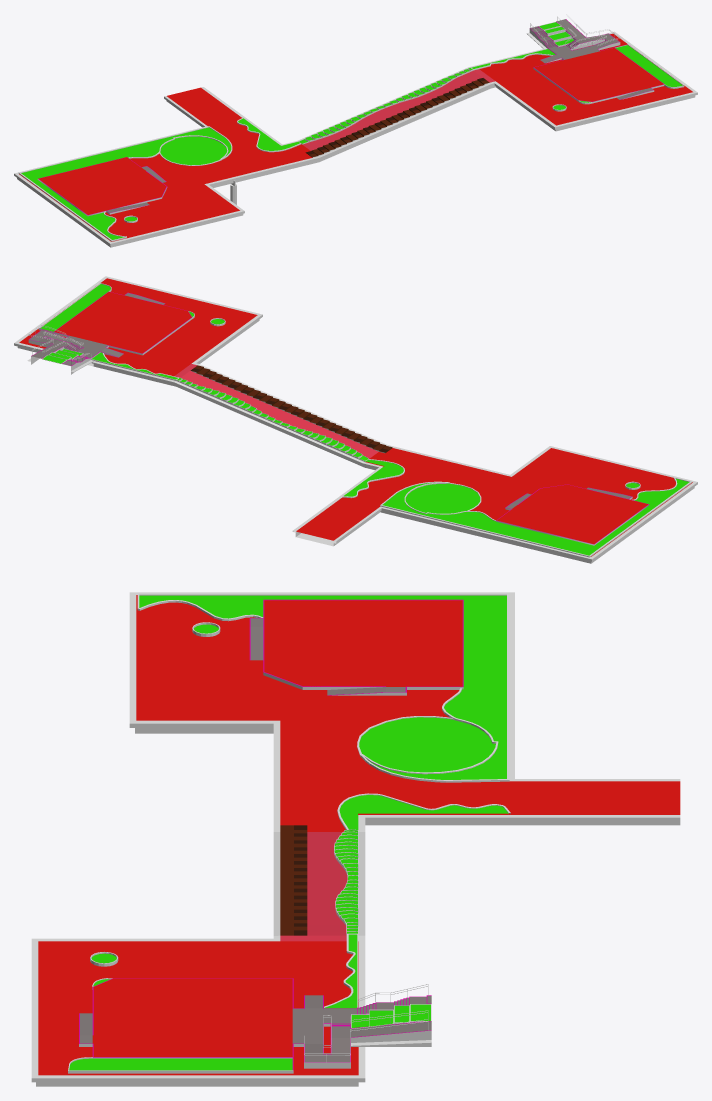
File: Plataforma_Completa Bake Ok.fbx
The picture shows the model from 3 angles, top to bottom: view 1: azimuth 30°, elevation 25°; view 2: azimuth 150°, elevation 25°; view 3: azimuth 270°, elevation 25°; orthographic projection. The views are drawn at different scales.
Parts seen in each view (by area): view 1: Piso_vermelho.001, Jardim, Piso_vermelho, Piso_vermelho.002, Piso_vermelho.003, Concreto.001, Concreto.003, Rampa, Concreto, Piso_cinza, Parque, Escada_rampa (+6 smaller); view 2: Piso_vermelho.001, Jardim, Piso_vermelho, Piso_vermelho.002, Piso_vermelho.003, Concreto.001, Concreto.003, Rampa, Concreto, Parque, Escada_rampa, Piso_cinza (+6 smaller); view 3: Piso_vermelho.001, Jardim, Piso_vermelho, Piso_vermelho.002, Piso_vermelho.003, Concreto.001, Concreto.003, Parque, Piso_cinza, Rampa, Escada_rampa, Canteiros_Inferior.001 (+8 smaller).
Boxes of the visible parts, left/top/right/bottom form: Piso_vermelho.001: left=19, top=87, right=312, bottom=241; Jardim: left=21, top=22, right=682, bottom=239; Piso_vermelho: left=479, top=33, right=692, bottom=125; Piso_vermelho.002: left=38, top=157, right=166, bottom=214; Piso_vermelho.003: left=534, top=48, right=663, bottom=101; Concreto.001: left=14, top=87, right=300, bottom=247; Concreto.003: left=469, top=31, right=697, bottom=131; Rampa: left=303, top=69, right=495, bottom=150; Concreto: left=282, top=67, right=491, bottom=166; Piso_cinza: left=107, top=19, right=652, bottom=212; Parque: left=160, top=136, right=226, bottom=165; Escada_rampa: left=305, top=78, right=489, bottom=157; Piso_vermelho.001: left=296, top=448, right=692, bottom=556; Jardim: left=40, top=284, right=689, bottom=555; Piso_vermelho: left=19, top=278, right=257, bottom=376; Piso_vermelho.002: left=497, top=484, right=647, bottom=543; Piso_vermelho.003: left=54, top=292, right=191, bottom=353; Concreto.001: left=292, top=446, right=697, bottom=563; Concreto.003: left=14, top=276, right=262, bottom=386; Rampa: left=174, top=364, right=378, bottom=458; Concreto: left=174, top=364, right=409, bottom=469; Parque: left=405, top=483, right=480, bottom=513; Escada_rampa: left=190, top=365, right=392, bottom=452; Piso_cinza: left=29, top=293, right=631, bottom=508; Piso_vermelho.001: left=136, top=595, right=680, bottom=831; Jardim: left=69, top=595, right=508, bottom=1070; Piso_vermelho: left=38, top=941, right=358, bottom=1075; Piso_vermelho.002: left=264, top=600, right=462, bottom=686; Piso_vermelho.003: left=92, top=978, right=292, bottom=1056; Concreto.001: left=129, top=592, right=680, bottom=825; Concreto.003: left=31, top=935, right=431, bottom=1086; Parque: left=359, top=717, right=495, bottom=772; Piso_cinza: left=80, top=618, right=431, bottom=1061; Rampa: left=280, top=832, right=347, bottom=941; Escada_rampa: left=280, top=825, right=307, bottom=935; Canteiros_Inferior.001: left=357, top=594, right=509, bottom=782.
Size of what is drawn, in the model's own units: 19392 by 2756 by 9669.
